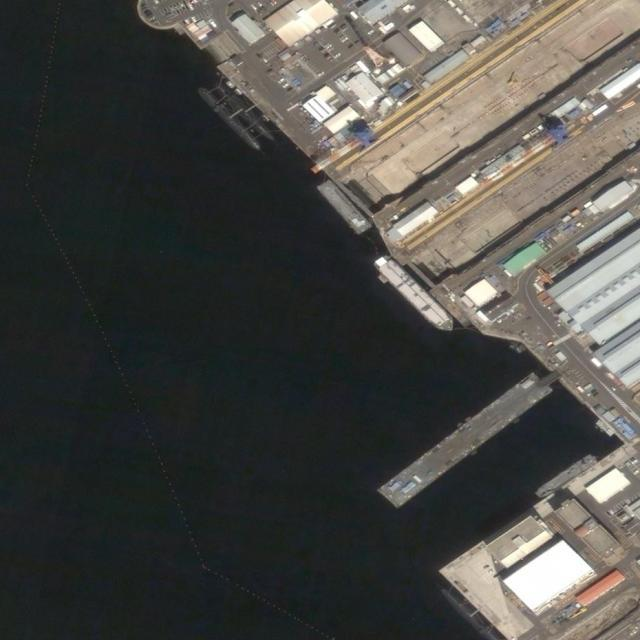Dock: (379, 367, 550, 513)
Other Ship: (367, 250, 459, 340)
Submarine: (196, 85, 261, 153), (214, 79, 276, 141)
